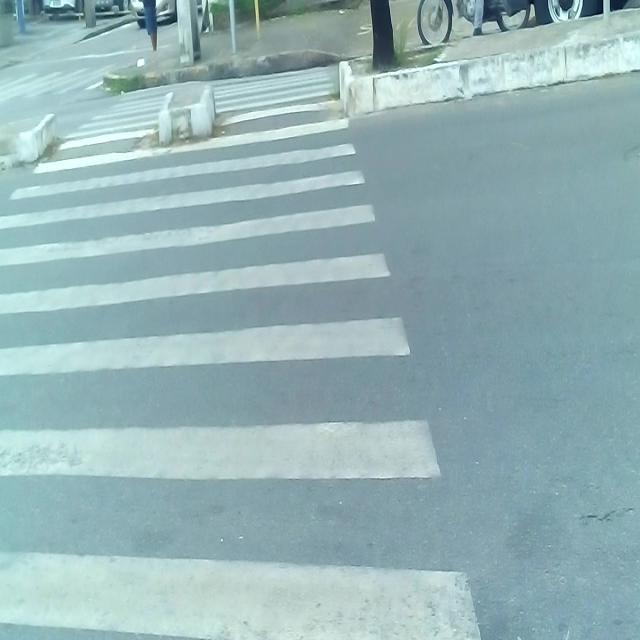crosswalk: (0, 63, 487, 640), (0, 68, 112, 98)
